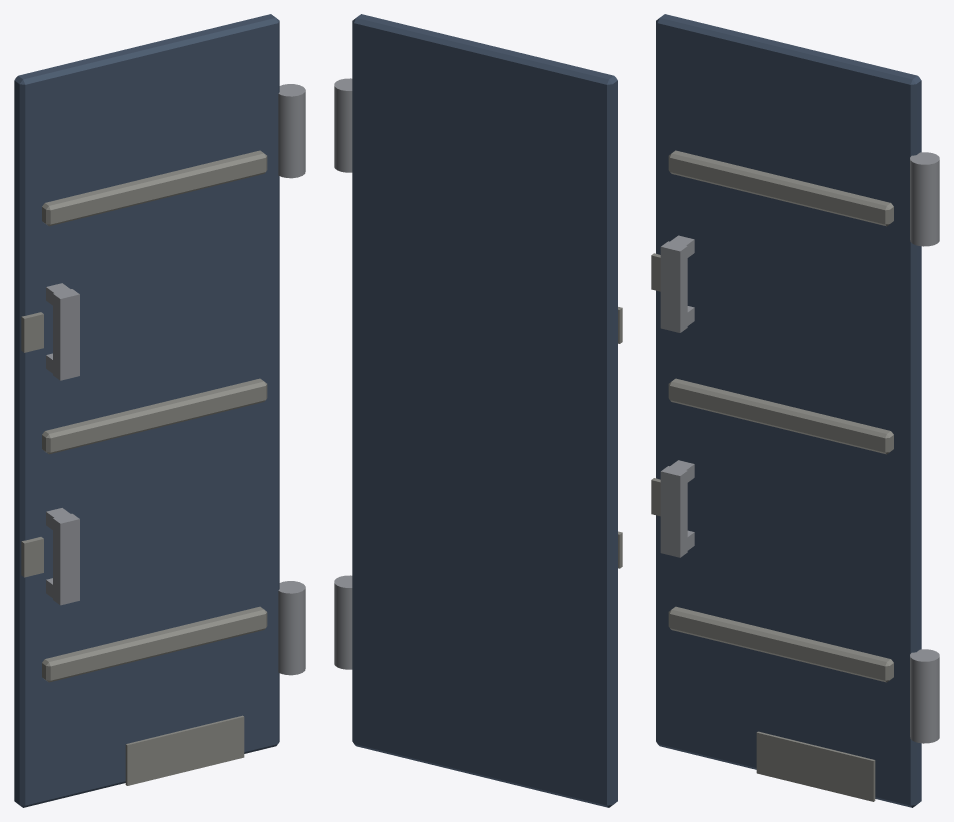
The model's file is pb8_reload_hatch.obj.
3 renders of one model, left to right at view 1: azimuth 30°, elevation 25°; view 2: azimuth 150°, elevation 25°; view 3: azimuth 330°, elevation 25°, orthographic.
Parts seen in each view (by area): view 1: pb8_reload_hatch; view 2: pb8_reload_hatch; view 3: pb8_reload_hatch.
Part boxes in pixels (left/top/right/bottom): pb8_reload_hatch: left=14, top=14, right=305, bottom=807; pb8_reload_hatch: left=334, top=14, right=622, bottom=807; pb8_reload_hatch: left=651, top=14, right=939, bottom=807.
Size of the model in its own units: 0.435 by 1.07 by 0.0675.
